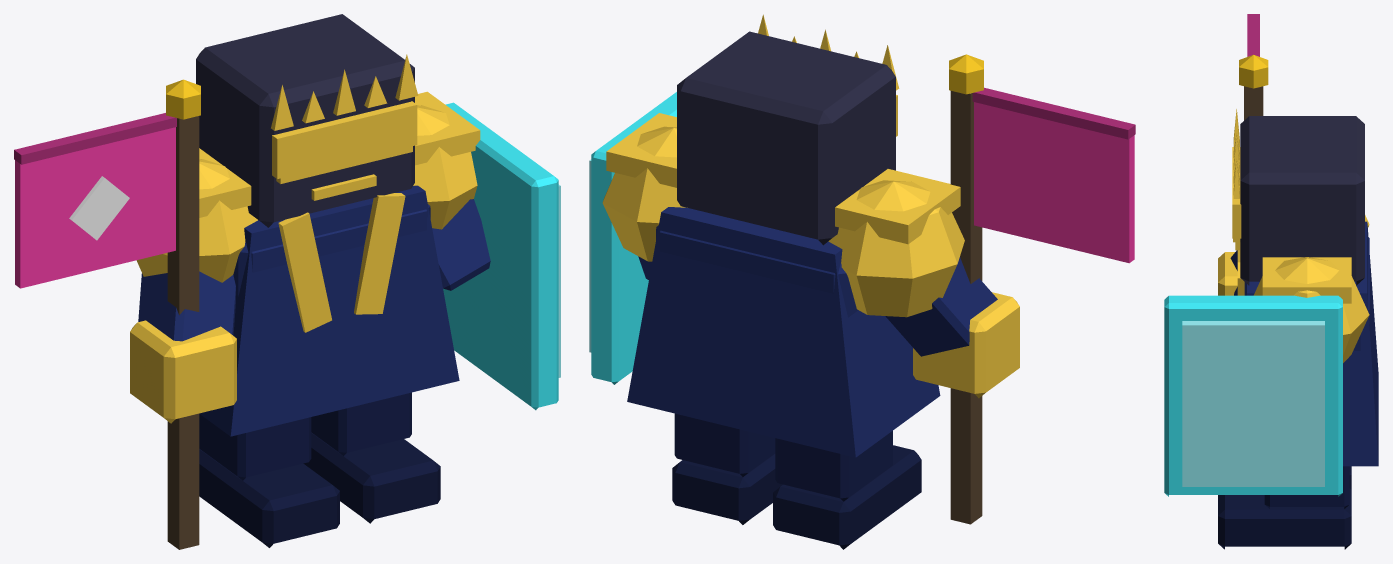
File: r8_mini_neon_overlord.glb
3 renders of one model, left to right at view 1: azimuth 30°, elevation 25°; view 2: azimuth 150°, elevation 25°; view 3: azimuth 270°, elevation 25°, orthographic. The views are drawn at different scales.
Parts seen in each view (by area): view 1: r8_mini_neon_overlord_mesh; view 2: r8_mini_neon_overlord_mesh; view 3: r8_mini_neon_overlord_mesh.
Part boxes in pixels (bbox=[...]): r8_mini_neon_overlord_mesh: bbox=[14, 14, 560, 549]; r8_mini_neon_overlord_mesh: bbox=[589, 14, 1135, 549]; r8_mini_neon_overlord_mesh: bbox=[1164, 14, 1378, 549].
Bounding box in the file's own units: 5.09 × 4.6 × 2.23.
Materials: 1 (1 with a texture image).
